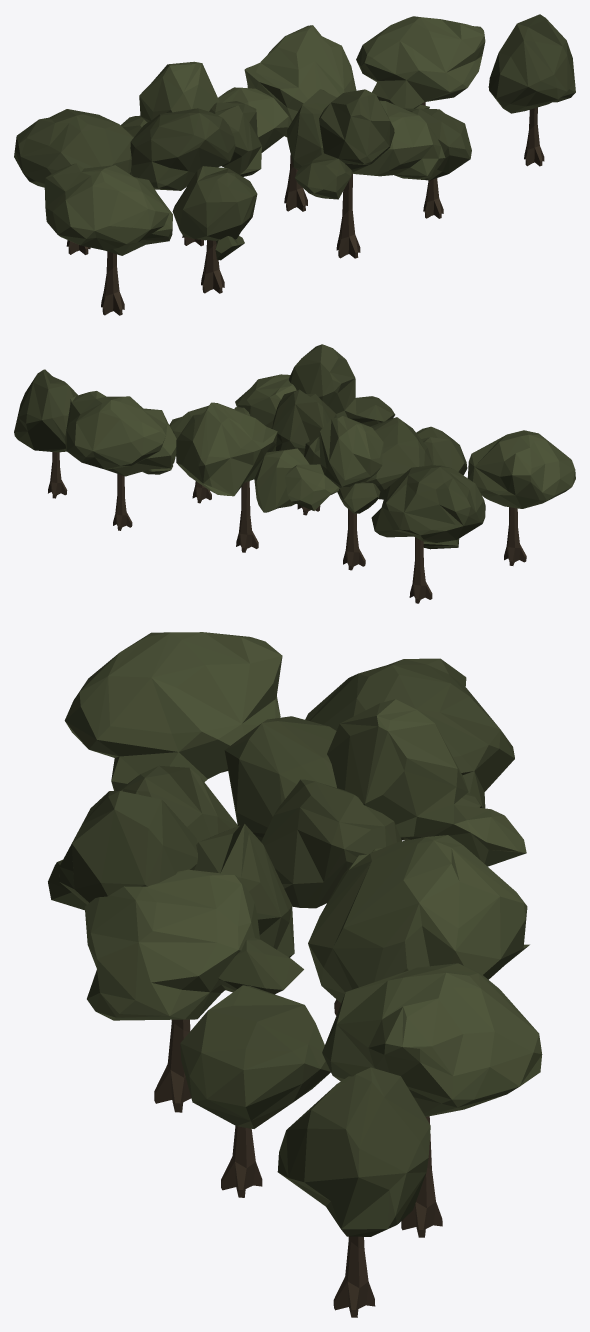
The model's file is SM_Env_Tree_Group_04.fbx.
3 renders of one model, top to bottom at view 1: azimuth 30°, elevation 25°; view 2: azimuth 150°, elevation 25°; view 3: azimuth 270°, elevation 25°, orthographic. The views are drawn at different scales.
Visible parts, largest first — view 1: SM_Env_Tree_Group_04; view 2: SM_Env_Tree_Group_04; view 3: SM_Env_Tree_Group_04.
Part boxes in pixels (bbox=[...]): SM_Env_Tree_Group_04: bbox=[14, 14, 575, 315]; SM_Env_Tree_Group_04: bbox=[14, 344, 575, 603]; SM_Env_Tree_Group_04: bbox=[48, 632, 542, 1317].
Bounding box in the file's own units: 2044 × 617 × 871.
